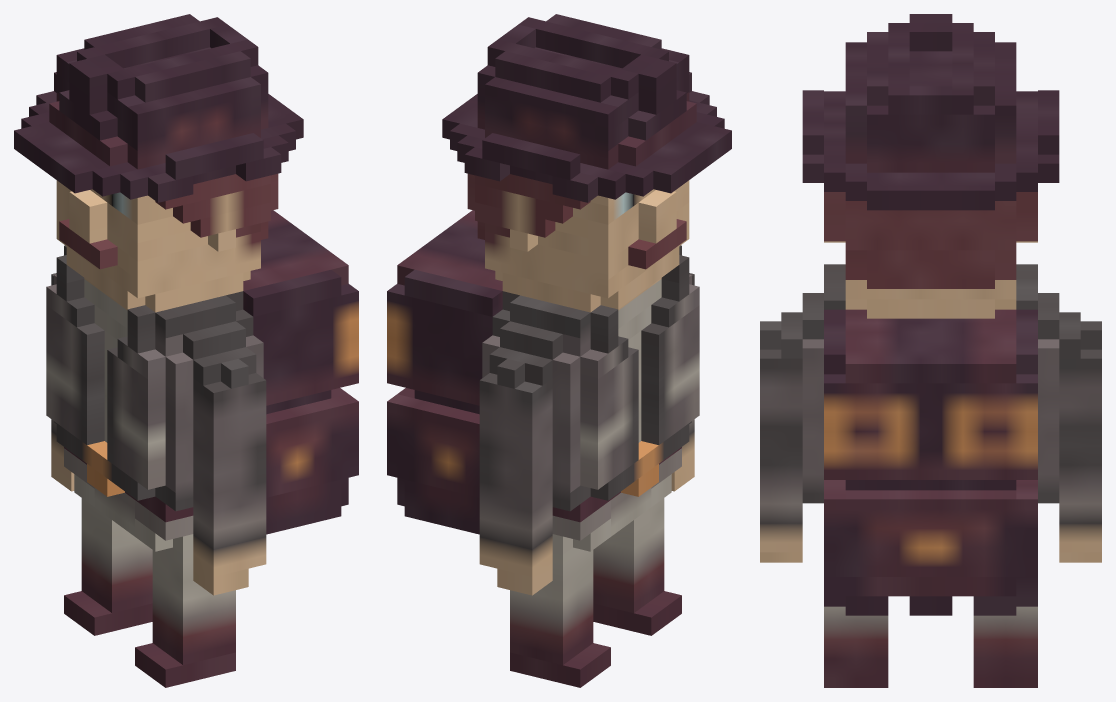
The model's file is player_character.fbx.
3 renders of one model, left to right at view 1: azimuth 30°, elevation 25°; view 2: azimuth 150°, elevation 25°; view 3: azimuth 270°, elevation 25°, orthographic. The views are drawn at different scales.
Visible parts, largest first — view 1: Matrix_4, Matrix_2, Matrix_2_part_6, Matrix_2_part_4, Matrix_2_part, Matrix_2_part_2, Matrix_2_part_8, Matrix_2_part_7; view 2: Matrix_4, Matrix_2, Matrix_2_part_6, Matrix_2_part_4, Matrix_2_part_7, Matrix_2_part_8, Matrix_2_part_2, Matrix_2_part; view 3: Matrix_2_part_6, Matrix_4, Matrix_2_part_4, Matrix_2, Matrix_2_part, Matrix_2_part_7, Matrix_2_part_2, Matrix_2_part_8.
Boxes of the visible parts, bbox=[...] form: Matrix_4: bbox=[14, 14, 303, 202]; Matrix_2: bbox=[46, 245, 263, 536]; Matrix_2_part_6: bbox=[243, 210, 358, 534]; Matrix_2_part_4: bbox=[56, 173, 278, 312]; Matrix_2_part: bbox=[193, 347, 266, 595]; Matrix_2_part_2: bbox=[135, 500, 235, 687]; Matrix_2_part_8: bbox=[64, 448, 152, 635]; Matrix_2_part_7: bbox=[51, 273, 74, 491]; Matrix_4: bbox=[442, 14, 731, 202]; Matrix_2: bbox=[482, 245, 699, 536]; Matrix_2_part_6: bbox=[387, 210, 502, 534]; Matrix_2_part_4: bbox=[467, 173, 689, 312]; Matrix_2_part_7: bbox=[479, 347, 552, 595]; Matrix_2_part_8: bbox=[510, 500, 610, 687]; Matrix_2_part_2: bbox=[593, 448, 681, 635]; Matrix_2_part: bbox=[671, 273, 694, 491]; Matrix_2_part_6: bbox=[824, 309, 1037, 615]; Matrix_4: bbox=[802, 14, 1059, 210]; Matrix_2_part_4: bbox=[824, 192, 1037, 318]; Matrix_2: bbox=[802, 264, 1059, 503]; Matrix_2_part: bbox=[760, 312, 802, 562]; Matrix_2_part_7: bbox=[1059, 312, 1101, 562]; Matrix_2_part_2: bbox=[824, 606, 888, 687]; Matrix_2_part_8: bbox=[973, 606, 1037, 687].
Size of the model in its own units: 15 by 32 by 16.
Materials: 1 (1 with a texture image).
